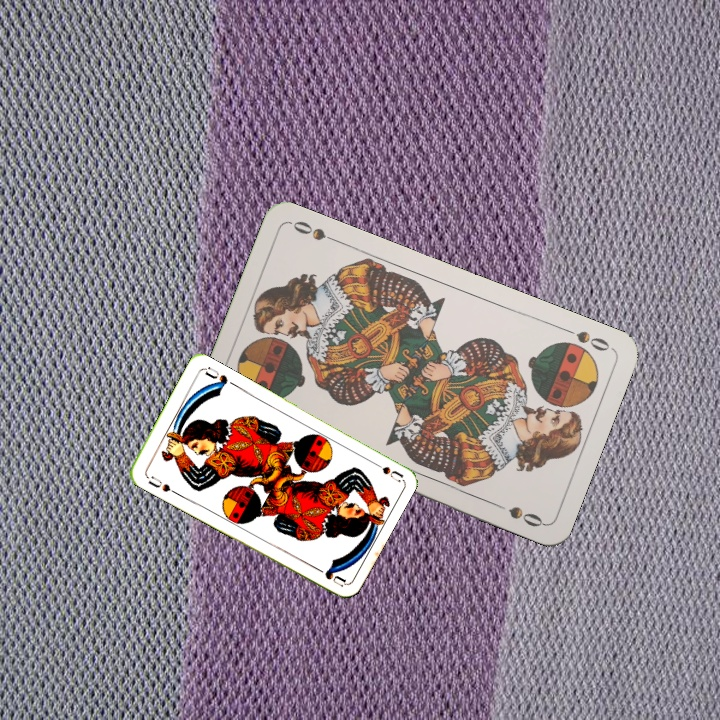SO: (558, 323, 614, 354)
SU: (366, 456, 405, 484), (142, 471, 180, 497)
